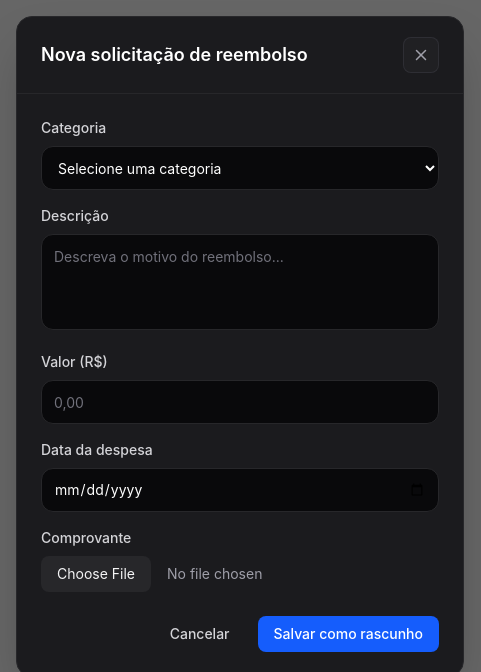
Scenario: CreateReimbursement - campos obrigatórios › deve exibir erro ao tentar enviar sem descrição
seleciona a categoria
Select "Alimentação" in the dropdown labelled "Categoria" at (240,168), box [41, 146, 439, 190]
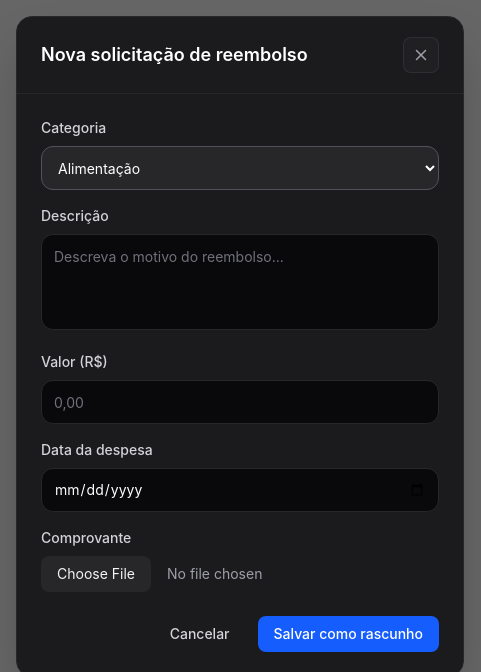
preenche valor e data, mas NÃO preenche descrição
Type "50" into the number field labelled "Valor (R$)".
click(240, 402); type("50")  # box [41, 380, 439, 424]
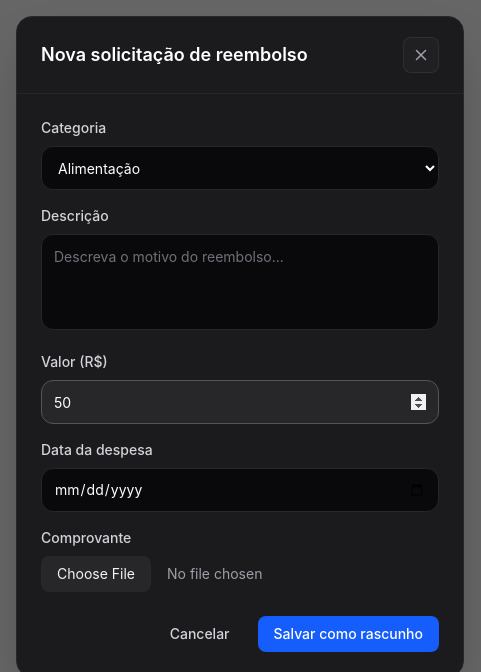
Type "2026-01-15" into the date field labelled "Data da despesa".
click(240, 490); type("2026-01-15")  # box [41, 468, 439, 512]
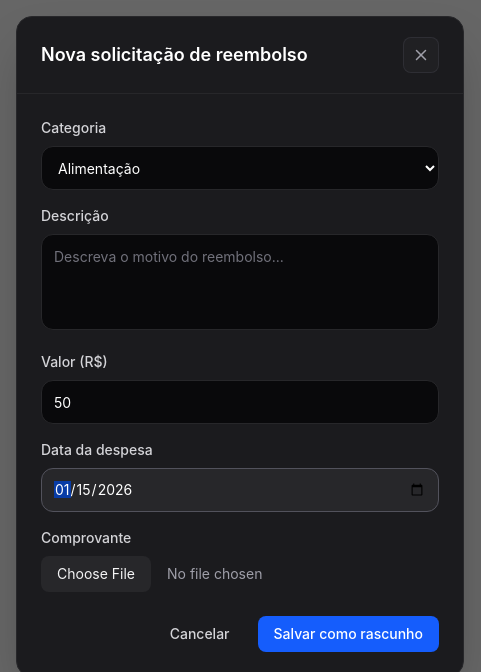
Click the button "Salvar como rascunho".
click(348, 634)  # box [258, 616, 439, 652]
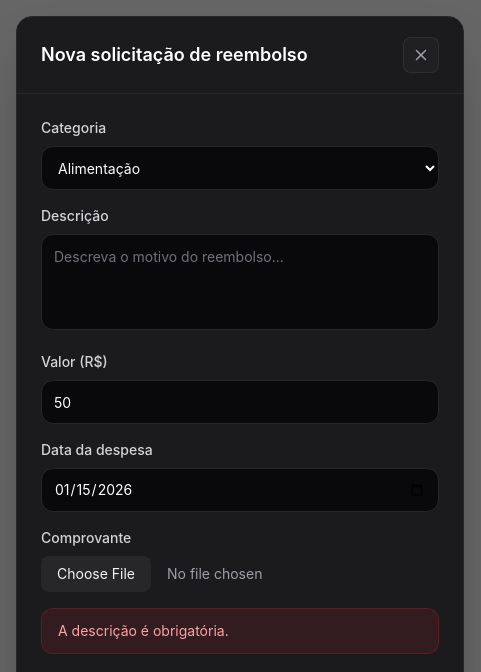
Check: the text "A descrição é obrigatória." is shown, box [58, 622, 229, 639]
